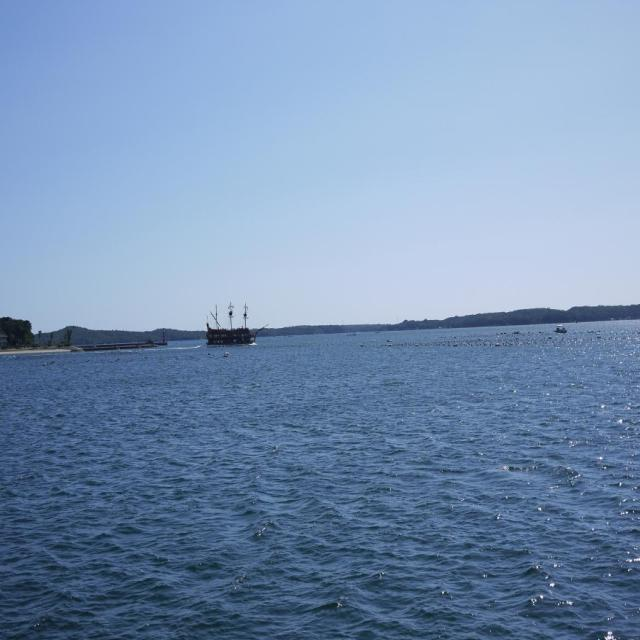fishing boat: (194, 294, 264, 347)
